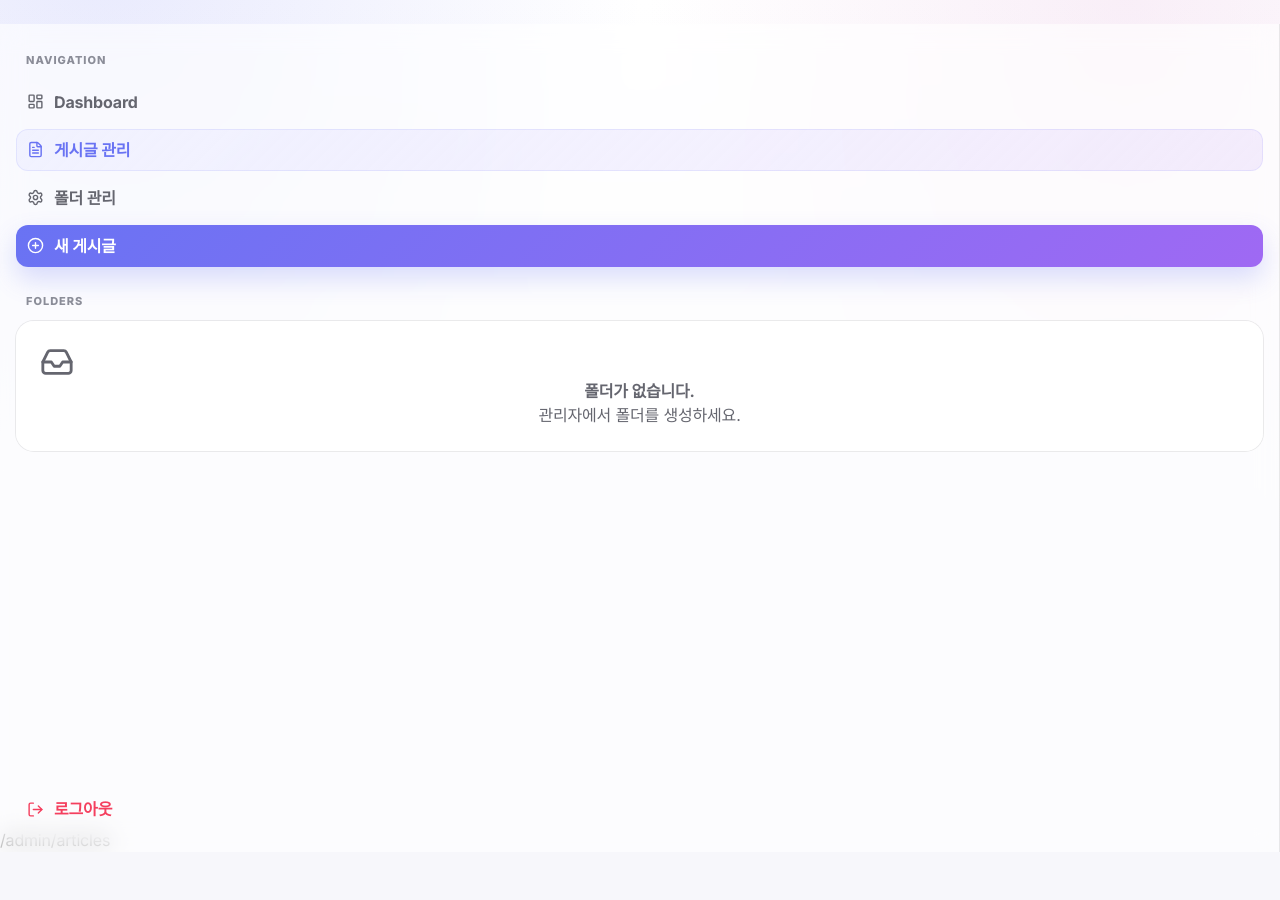
Test: Sidebar › 관리자 모드에서 활성 메뉴를 표시하고 로그아웃 시 로그인 페이지로 이동한다
The width and height of the screenshot is (1280, 900).
Click the button "로그아웃" at coordinates (83, 809), box [16,788,1263,830]
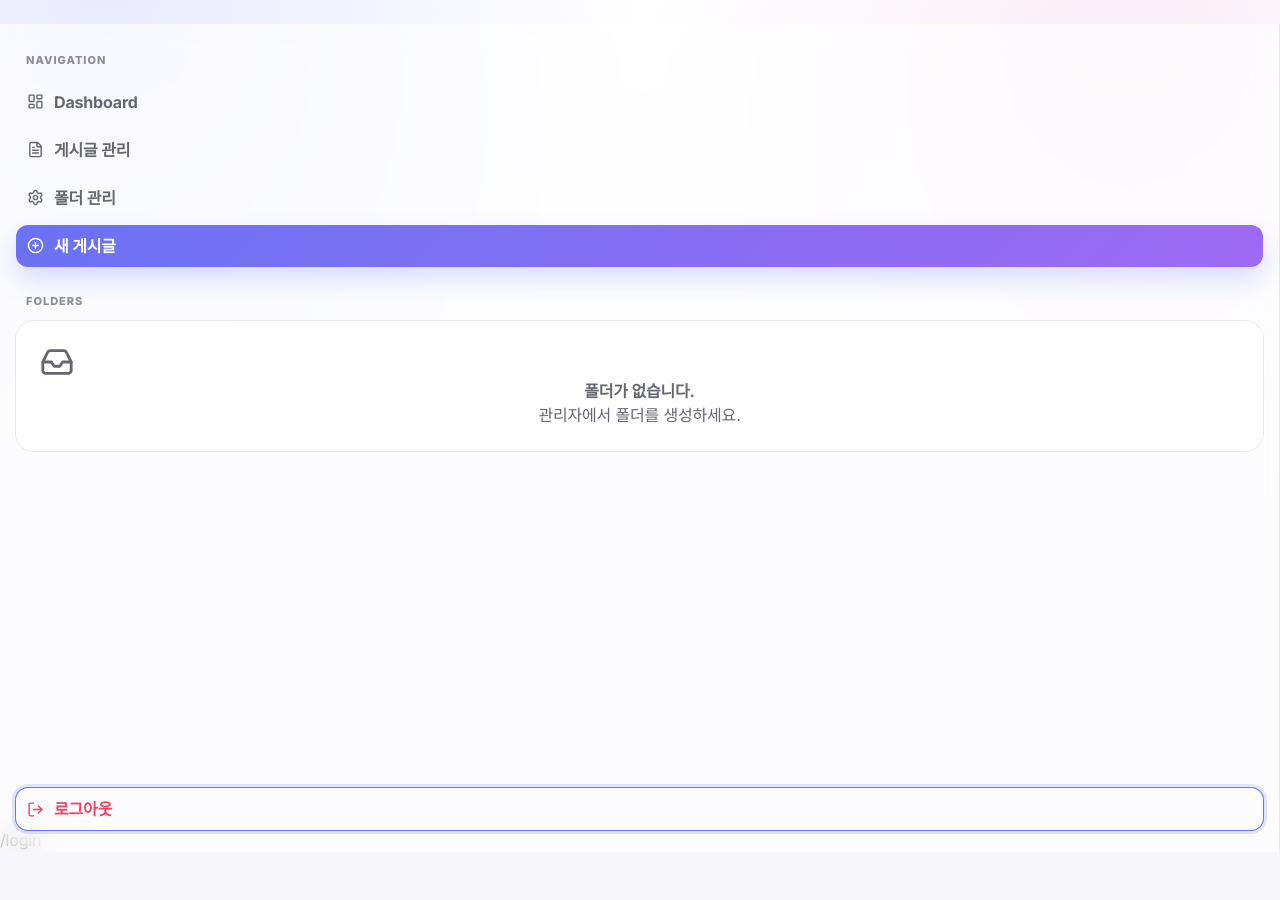
Check: the text with test id "location" reads "/login", box [0,830,41,850]
